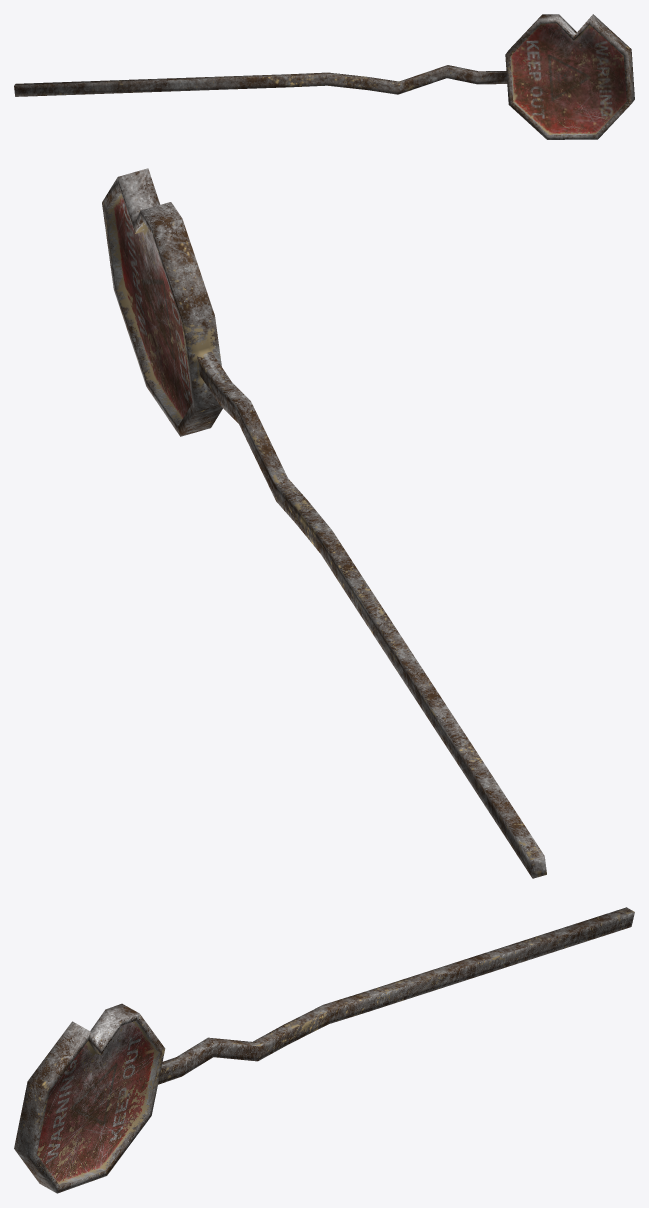
The model's file is Anim_idle_senyal_objetos.0041.obj.
3 renders of one model, top to bottom at view 1: azimuth 30°, elevation 25°; view 2: azimuth 150°, elevation 25°; view 3: azimuth 270°, elevation 25°, orthographic. The views are drawn at different scales.
Size of the model in its own units: 9.61 by 2.68 by 8.39.
